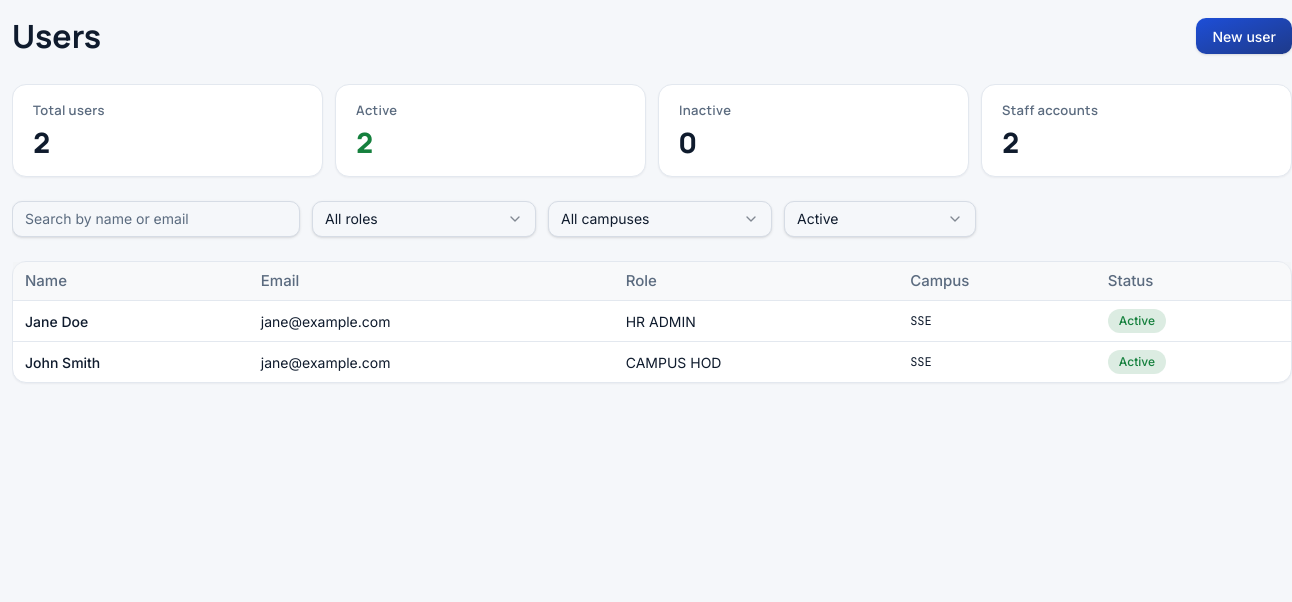
UsersListPage › narrows the list with the role filter
This screenshot has width=1292, height=602.
Expected: the link "Jane Doe" is shown, [25,312,88,330]
Expected: the link "John Smith" is shown, [25,354,100,370]
Click the dropdown named "Role filter". click: (424, 218)
box: [312,200,536,236]
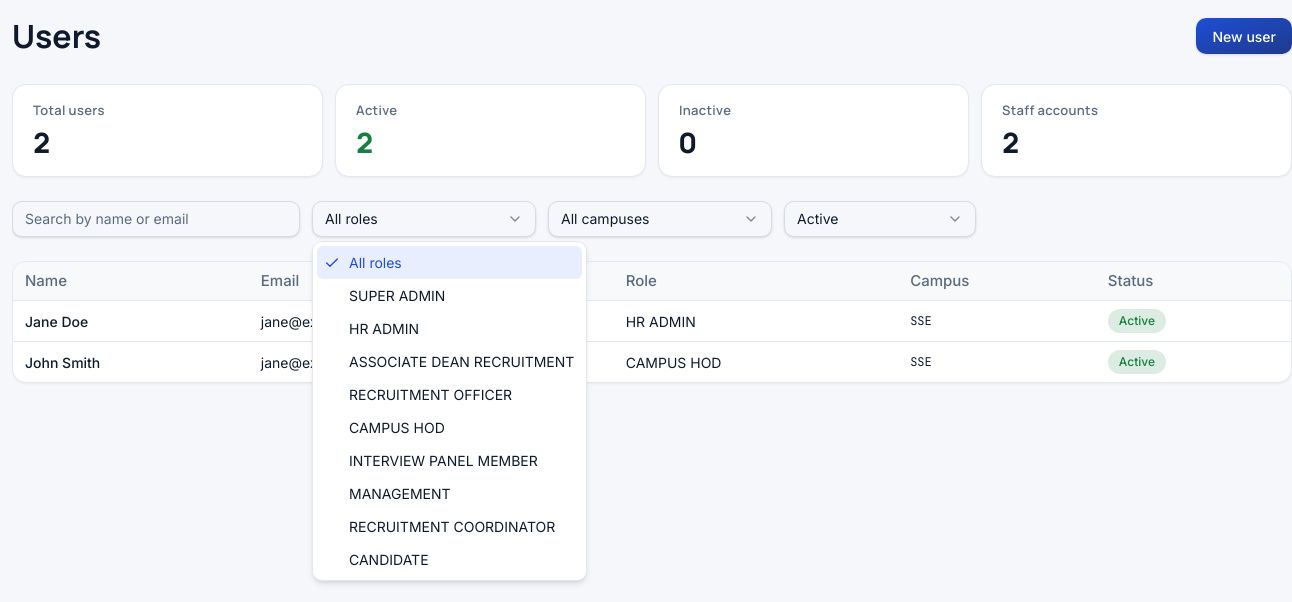
Click the option "CAMPUS HOD". click: (397, 428)
box: [349,419,445,436]
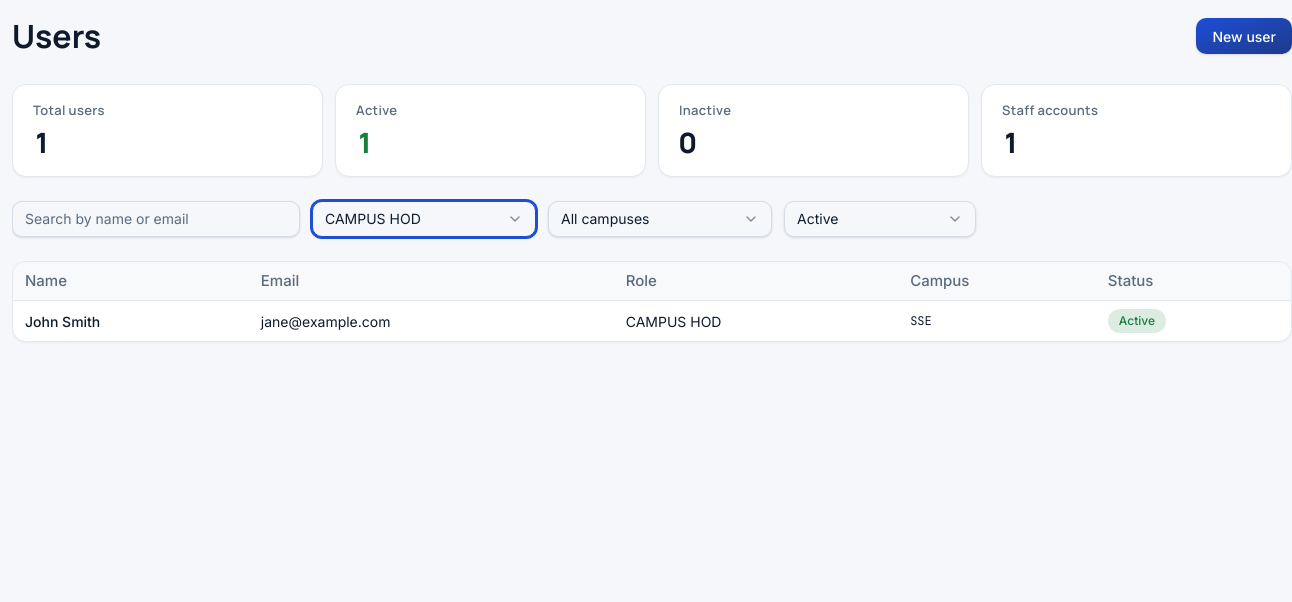
Expected: the link "John Smith" is shown, [25,312,100,330]
Now the link "Jane Doe" is gone
